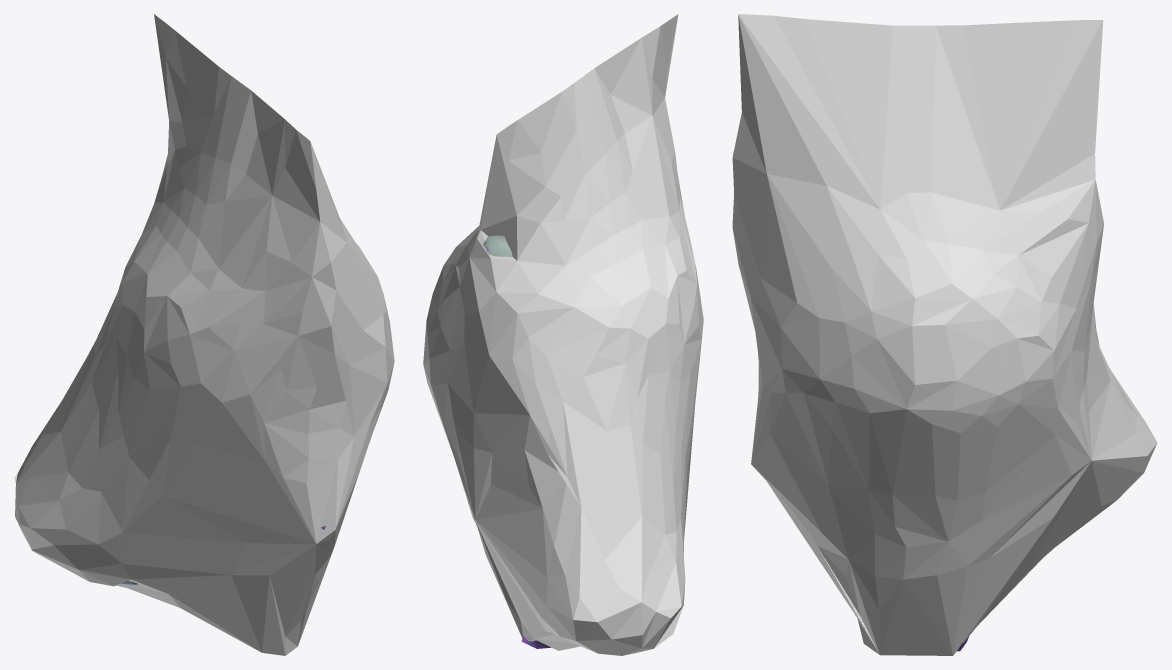
Rendered from Doll_Raccon01.fbx.
3 views of the same model, side by side, from view 1: azimuth 30°, elevation 25°; view 2: azimuth 150°, elevation 25°; view 3: azimuth 270°, elevation 25° (orthographic). The views are drawn at different scales.
Visible parts, largest first — view 1: Raccon01; view 2: Raccon01; view 3: Raccon01.
Part boxes in pixels (x1=…): Raccon01: x1=14, y1=14, x2=394, y2=655; Raccon01: x1=423, y1=14, x2=703, y2=655; Raccon01: x1=732, y1=14, x2=1157, y2=655.
Bounding box in the file's own units: 53.01 × 98.62 × 61.48.
